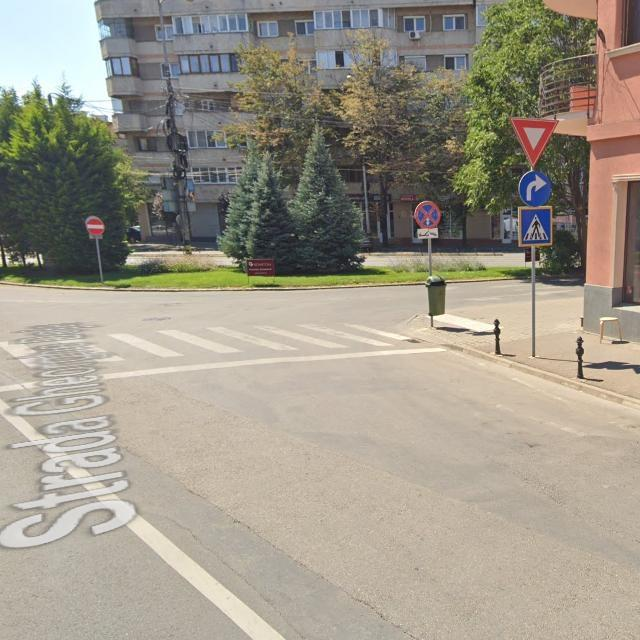forb_waiting: (415, 201, 442, 229)
info_crosswalk: (517, 206, 554, 247)
prio_give_way: (508, 117, 559, 168)
